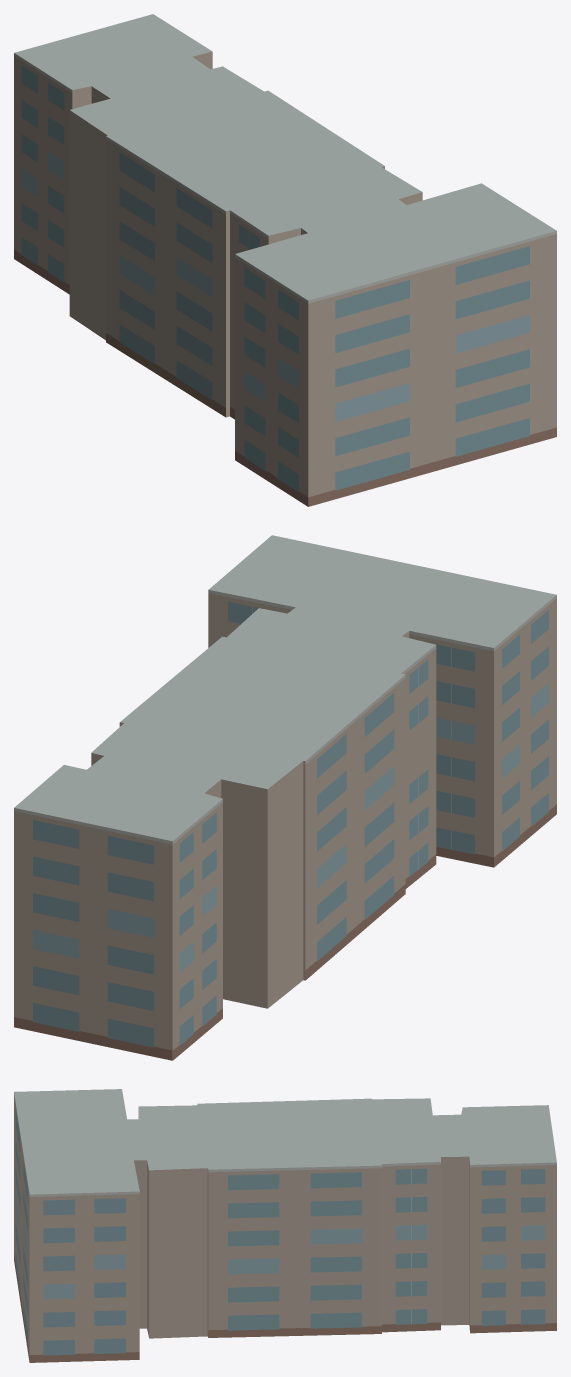
Rendered from survey-upis-33020989.glb.
3 views of the same model, one above another, from view 1: azimuth 30°, elevation 25°; view 2: azimuth 150°, elevation 25°; view 3: azimuth 270°, elevation 25° (orthographic). The views are drawn at different scales.
Visible parts, largest first — view 1: survey-upis-33020989.tmp; view 2: survey-upis-33020989.tmp; view 3: survey-upis-33020989.tmp.
Part boxes in pixels (x1=…): survey-upis-33020989.tmp: x1=14, y1=14, x2=556, y2=506; survey-upis-33020989.tmp: x1=14, y1=535, x2=556, y2=1060; survey-upis-33020989.tmp: x1=14, y1=1089, x2=556, y2=1362.
Size of the model in its own units: 21.75 by 16.15 by 47.22.
